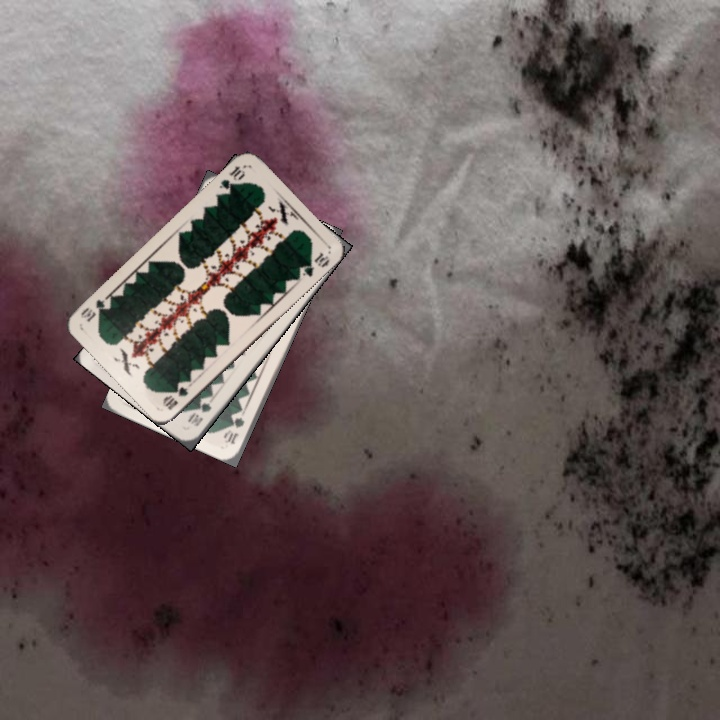G10: (158, 382, 191, 413), (215, 162, 248, 193), (184, 399, 214, 429), (221, 413, 247, 447)
